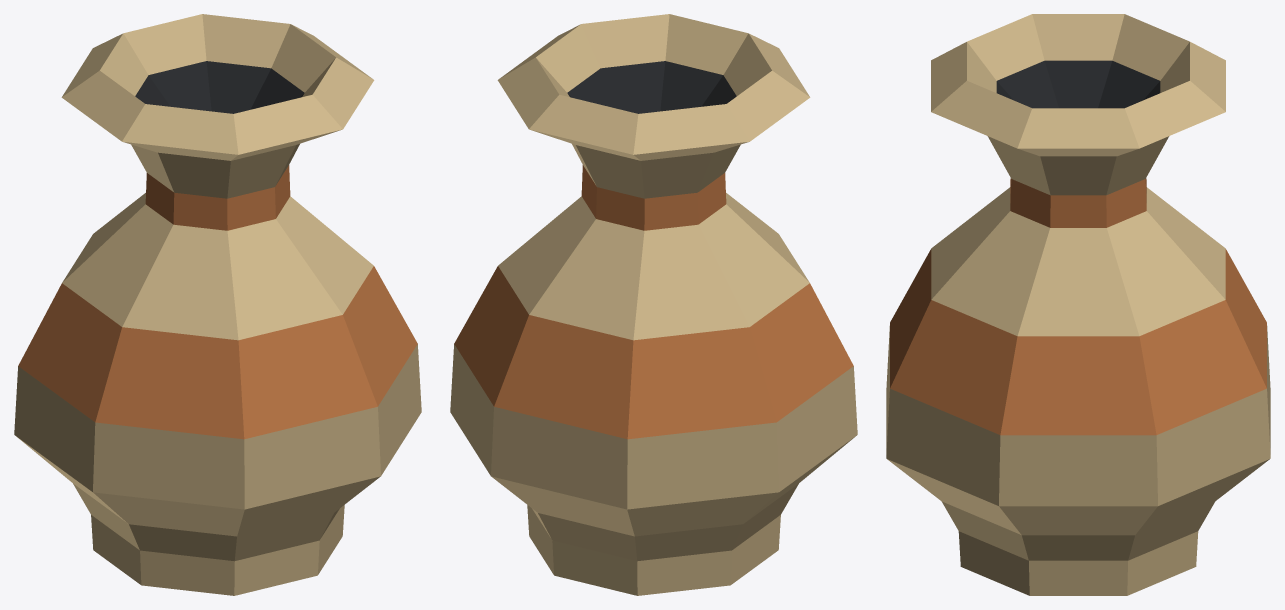
Rendered from SM_Prop_Vase_05.fbx.
3 renders of one model, left to right at view 1: azimuth 30°, elevation 25°; view 2: azimuth 150°, elevation 25°; view 3: azimuth 270°, elevation 25°, orthographic.
Visible parts, largest first — view 1: SM_Prop_Vase_05; view 2: SM_Prop_Vase_05; view 3: SM_Prop_Vase_05.
Boxes of the visible parts, <box> form: SM_Prop_Vase_05: <box>14,14,421,595</box>; SM_Prop_Vase_05: <box>450,14,857,595</box>; SM_Prop_Vase_05: <box>886,14,1270,595</box>.
Bounding box in the file's own units: 54.7 × 76.17 × 54.7.
